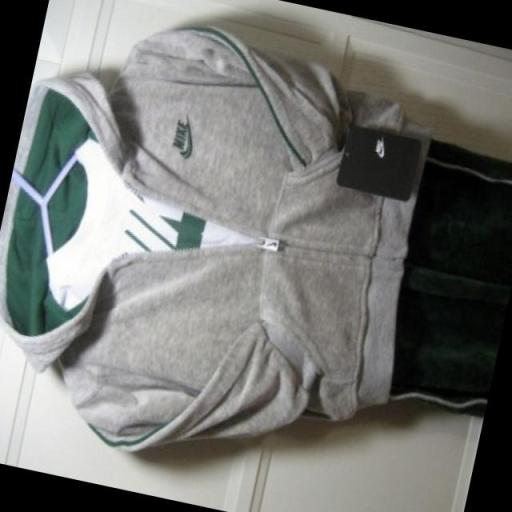Nike: (181, 120, 198, 162), (171, 118, 188, 152)
